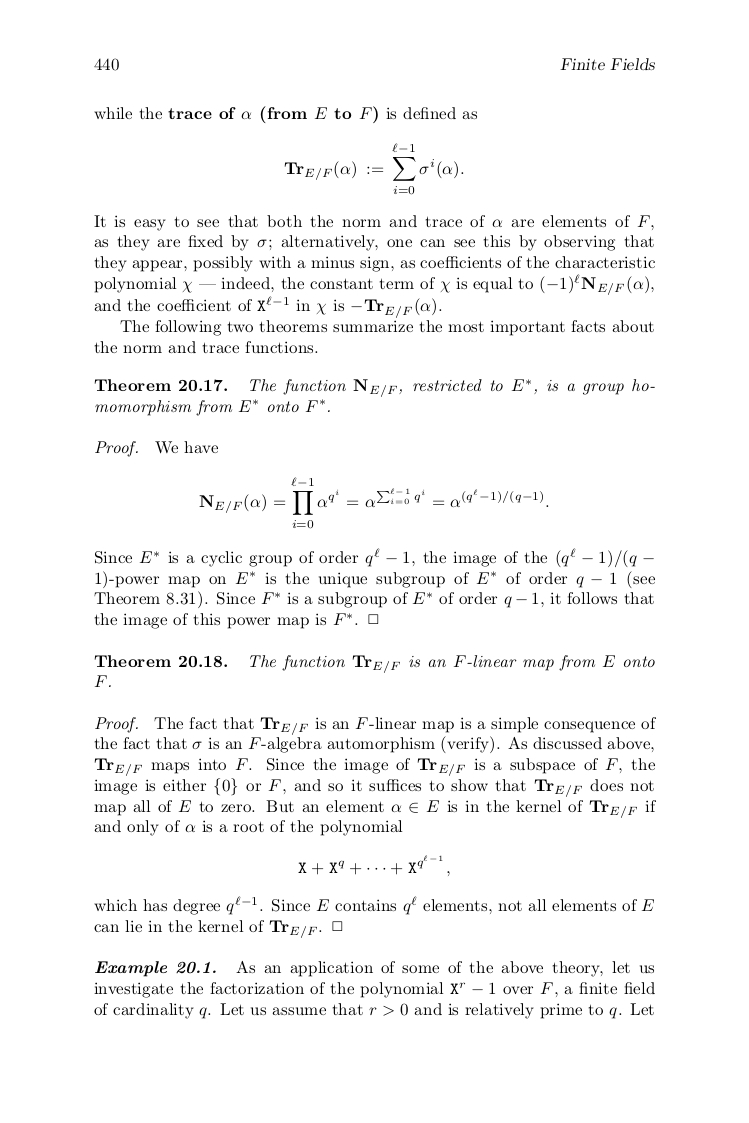formula: (199, 477, 548, 528), (284, 143, 463, 194), (298, 854, 449, 876)
